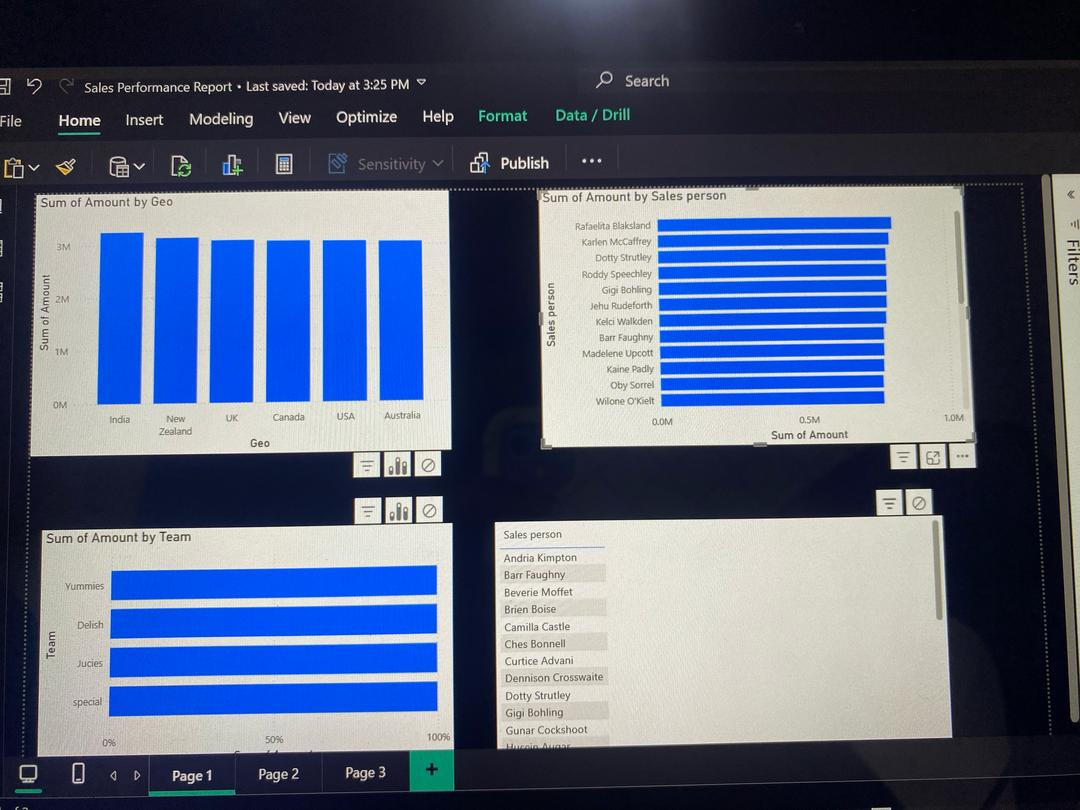

This screenshot's page, from the dashboard's own definition file:
{"tool":"powerbi","page":{"name":"Page 1","canvas":[1280,720],"ordinal":0},"visuals":[{"type":"columnChart","fields":{"Category":["locations.Geo"],"Y":["sales.Amount"]},"box":[0,0,530.3,335.1],"z":0},{"type":"clusteredBarChart","fields":{"Y":["sales.Amount"],"Category":["people.Sales person"]},"box":[598.6,0,556.3,335.1],"z":1000},{"type":"hundredPercentStackedBarChart","fields":{"Category":["people.Team"],"Y":["sales.Amount"]},"box":[17,428,514,292],"z":2000},{"type":"tableEx","fields":{"Values":["people.Sales person"]},"box":[583.9,427.8,570.9,283],"z":3000}]}

Visuals, with their boxes on the page's 1280x720 design canvas (x1, y1, x2, y2). These are canvas units, not pixel positions in the 1080x810 screenshot, which may show the page scaled, cropped or inside an application window:
columnChart - locations.Geo x sales.Amount: Rect(0, 0, 530, 335)
clusteredBarChart - sales.Amount x people.Sales person: Rect(599, 0, 1155, 335)
hundredPercentStackedBarChart - people.Team x sales.Amount: Rect(17, 428, 531, 720)
tableEx - people.Sales person: Rect(584, 428, 1155, 711)
